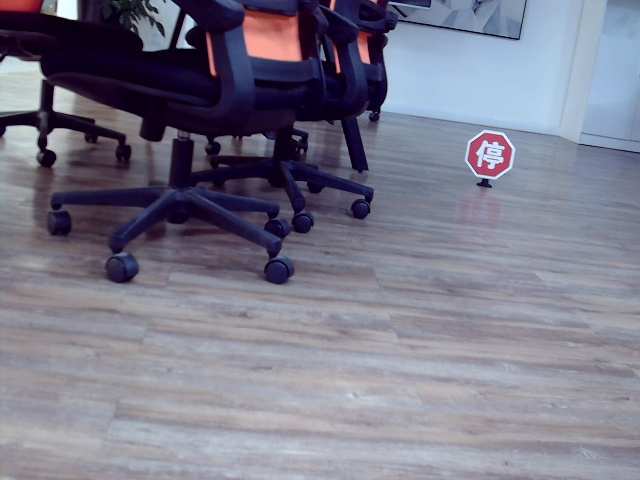stop: (477, 138, 503, 169)
